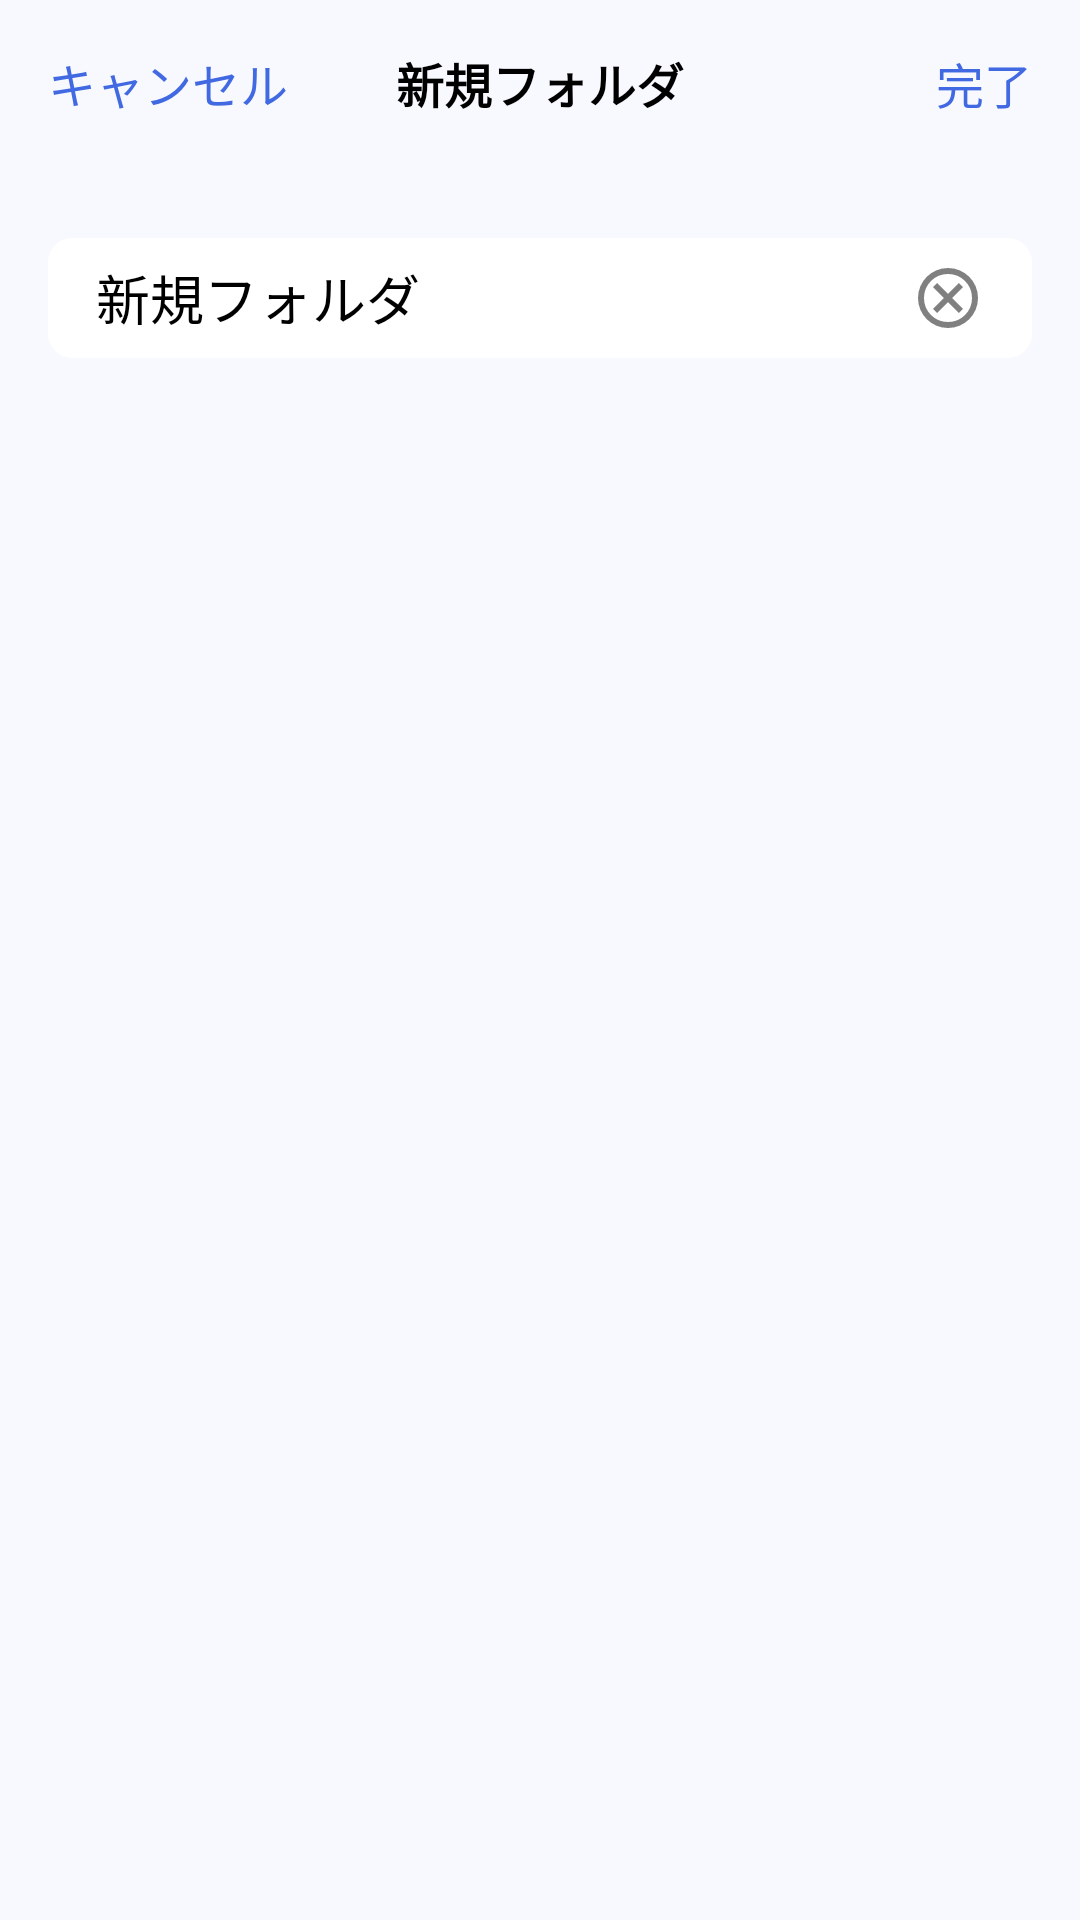

Named icons in this screenshot (1080 x 1920) and their centers, point (x, y):
cancel: point (948, 298)
